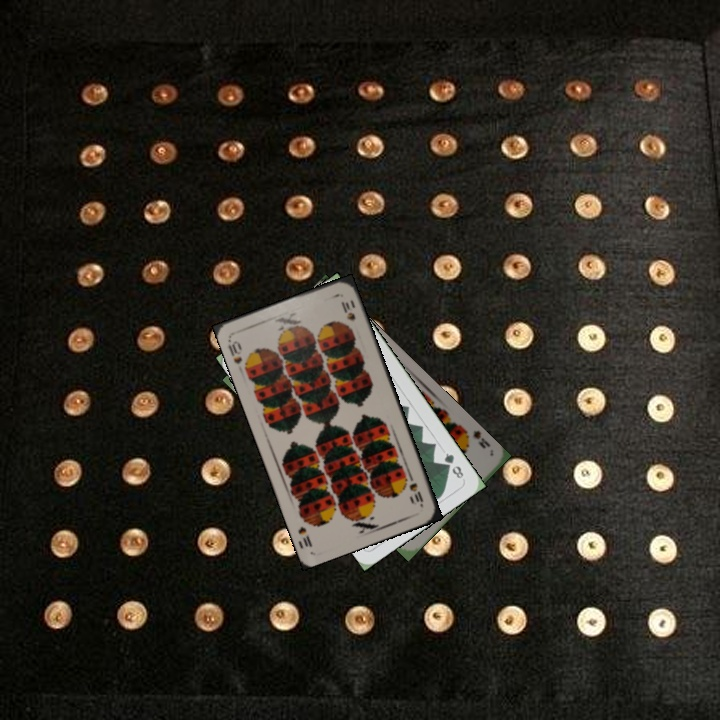G8: (440, 448, 466, 481)
S10: (404, 469, 426, 509), (224, 337, 245, 367)
S9: (457, 424, 493, 451)
